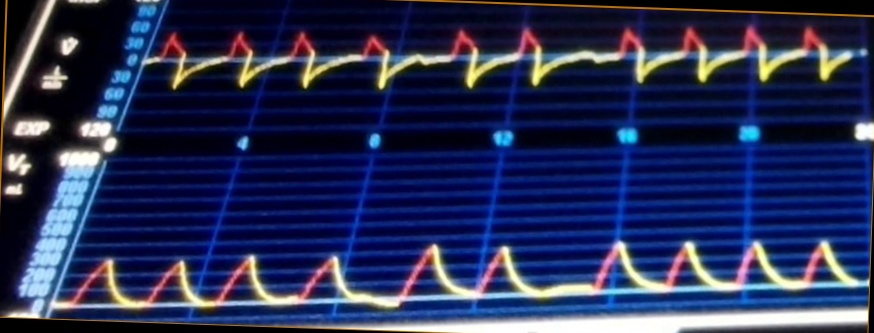Ineffective_effort Flow: (152, 21, 851, 124)
Ineffective_effort Volume: (64, 232, 856, 311)
